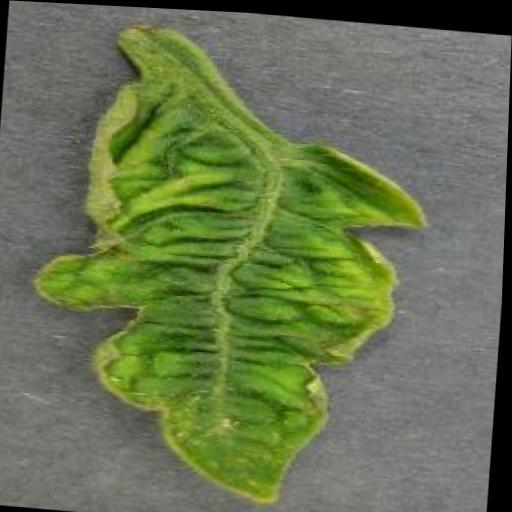Yellow Leaf Curl Virus: (24, 67, 439, 512)
